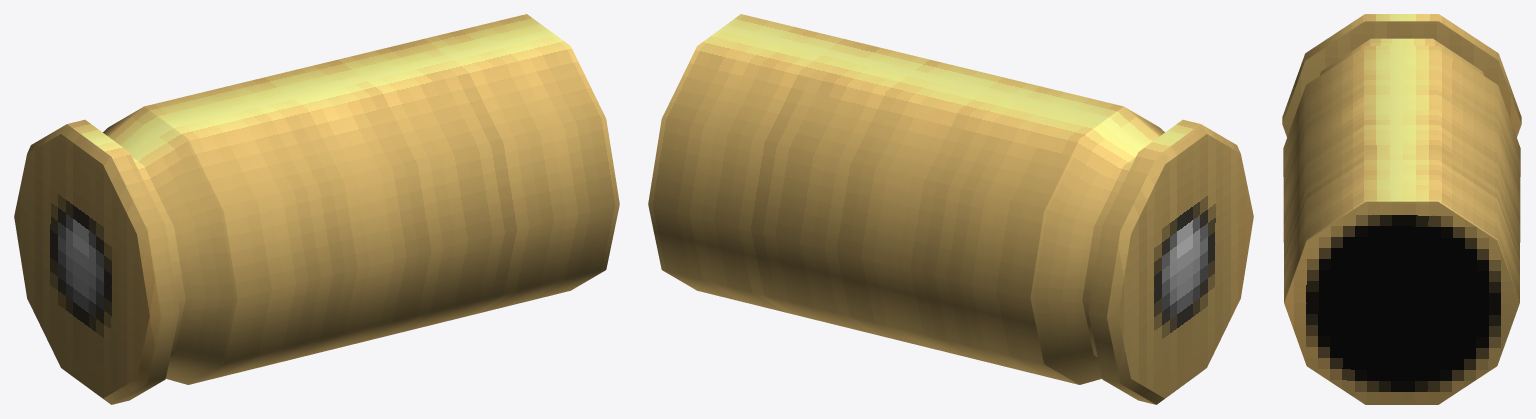
Rendered from ammomaker_CasingStraightM.fbx.
The picture shows the model from 3 angles, left to right: view 1: azimuth 30°, elevation 25°; view 2: azimuth 150°, elevation 25°; view 3: azimuth 270°, elevation 25°; orthographic projection. The views are drawn at different scales.
Visible parts, largest first — view 1: ammomaker_CasingStraightM; view 2: ammomaker_CasingStraightM; view 3: ammomaker_CasingStraightM.
Boxes of the visible parts, <box> form: ammomaker_CasingStraightM: <box>14,14,619,404</box>; ammomaker_CasingStraightM: <box>648,14,1253,404</box>; ammomaker_CasingStraightM: <box>1282,14,1521,404</box>.
Size of the model in its own units: 2.28 by 1.16 by 1.22.
